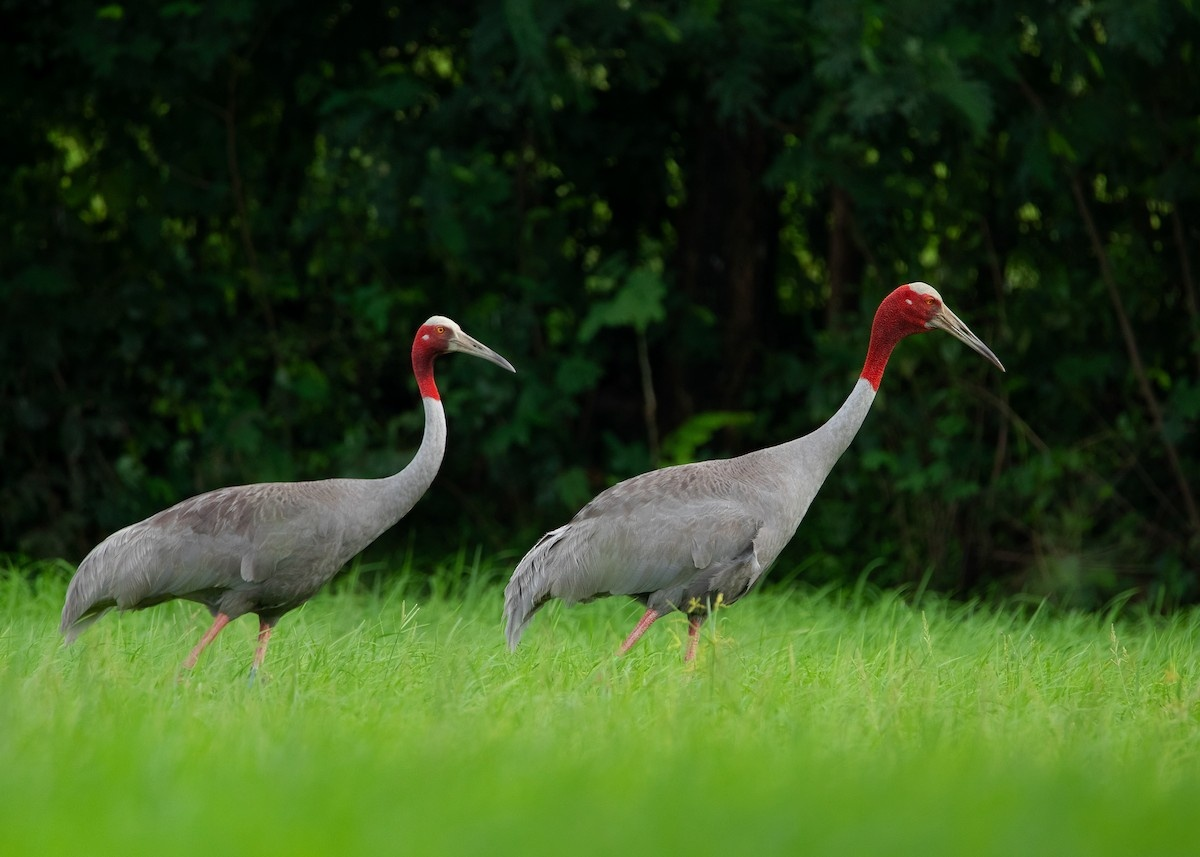crane: (491, 275, 1021, 675), (49, 305, 526, 689)
